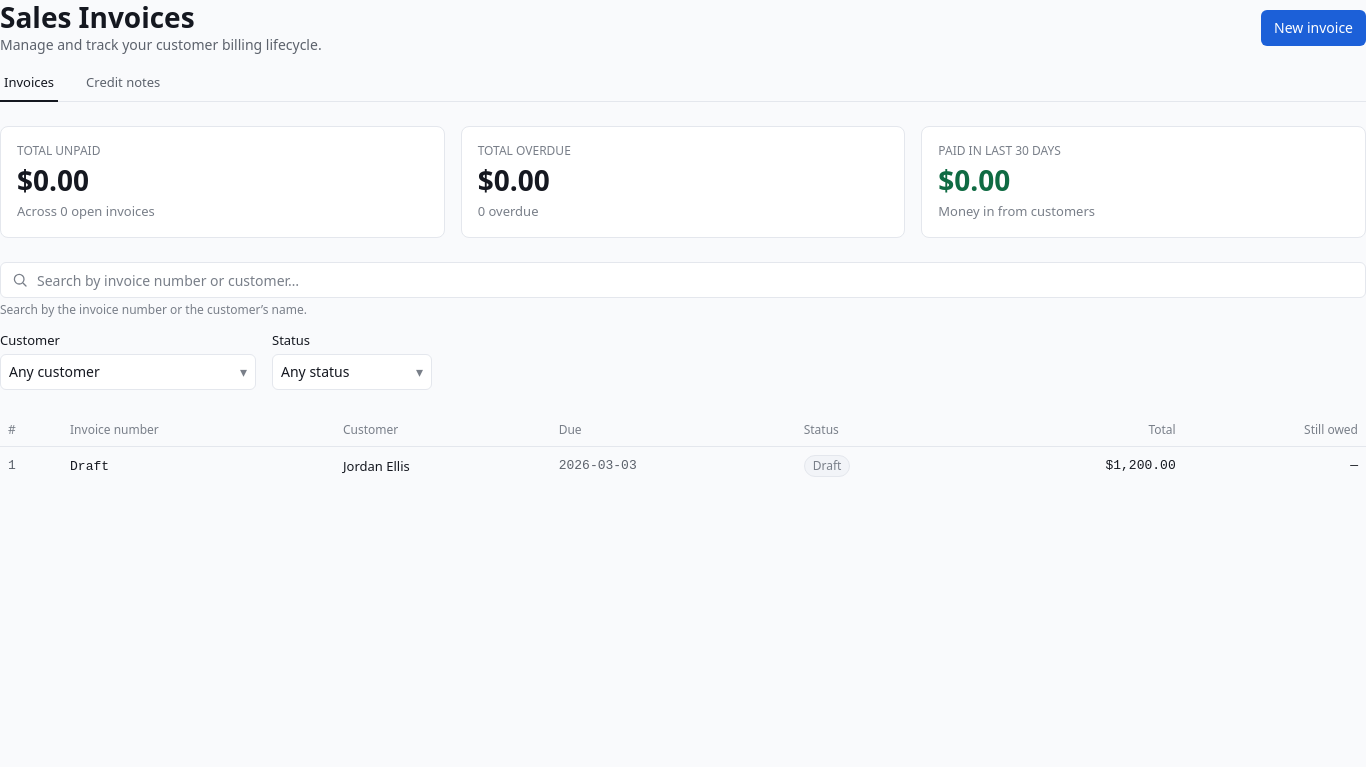
it: SalesScreen › line dimension tagging › reveals a picker per axis when the Dimensions toggle is opened
Click the button "Draft" at (90, 467), box [70, 457, 109, 477]
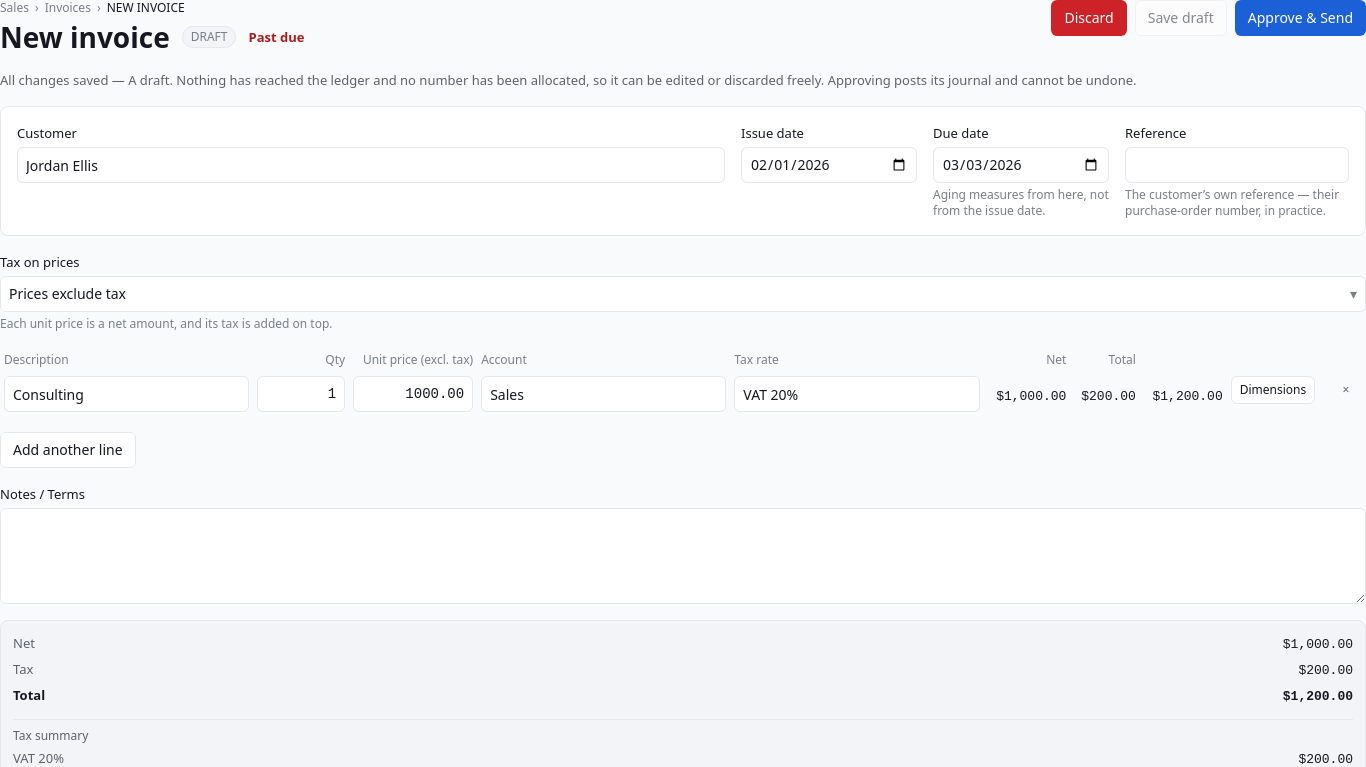
Click the button with aria-label "Dimensions, line 1" at (1273, 390), box [1231, 376, 1315, 404]
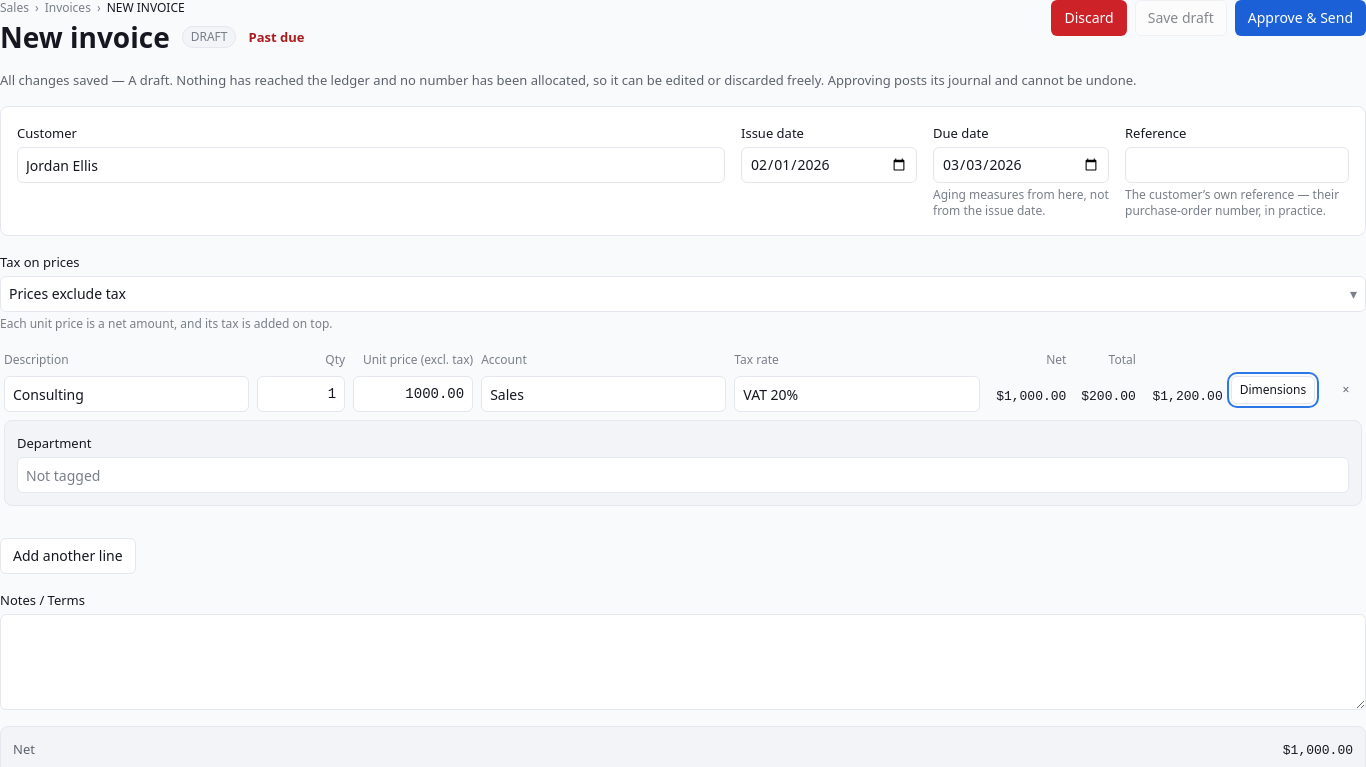
Expected: the dropdown named "Department, line 1" is shown, [17, 457, 1349, 493]
